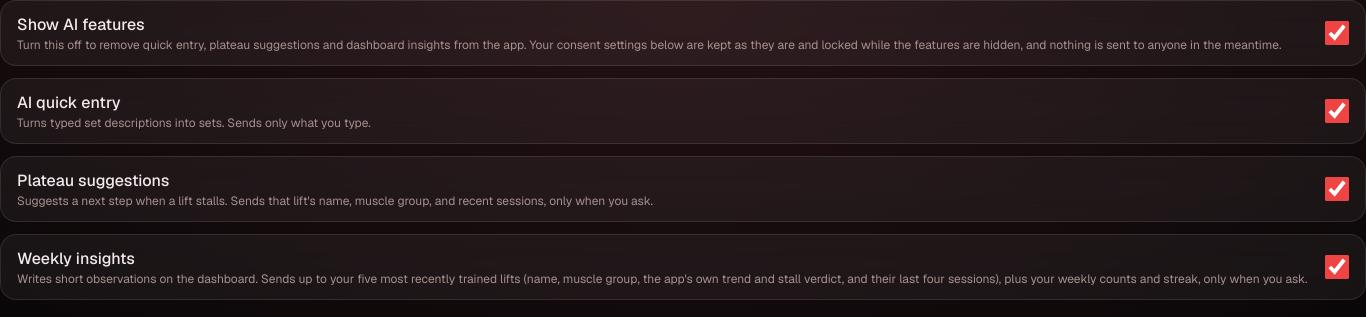
Test: the AI settings section › locks the three the moment the master switch is turned off
The width and height of the screenshot is (1366, 317).
Expected: the checkbox labelled "AI quick entry" is enabled, [1325, 99, 1349, 123]
Expected: the checkbox labelled "Plateau" is enabled, [1325, 177, 1349, 201]
Click the checkbox labelled "Show AI features": x=1337, y=33 [1325, 21, 1349, 45]
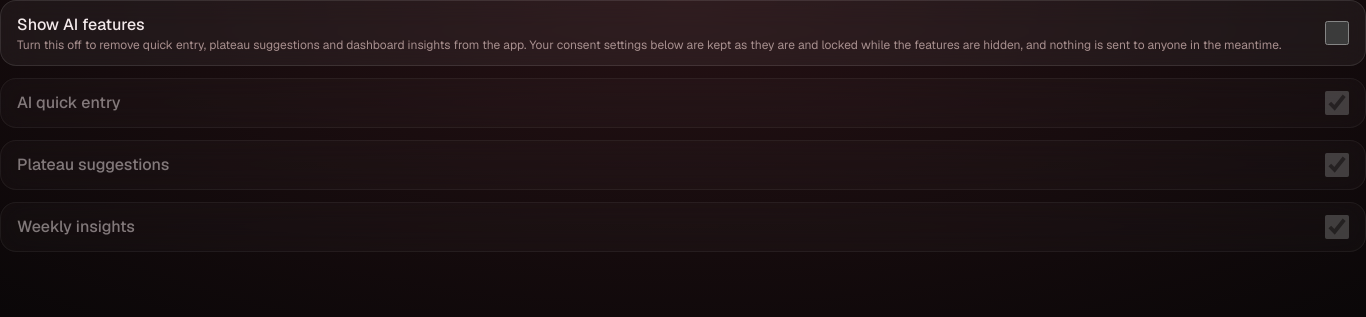
Expected: the checkbox labelled "AI quick entry" is disabled, [1325, 91, 1349, 115]
Expected: the checkbox labelled "Plateau suggestions" is disabled, [1325, 153, 1349, 177]
Expected: the checkbox labelled "Weekly insights" is disabled, [1325, 215, 1349, 239]
